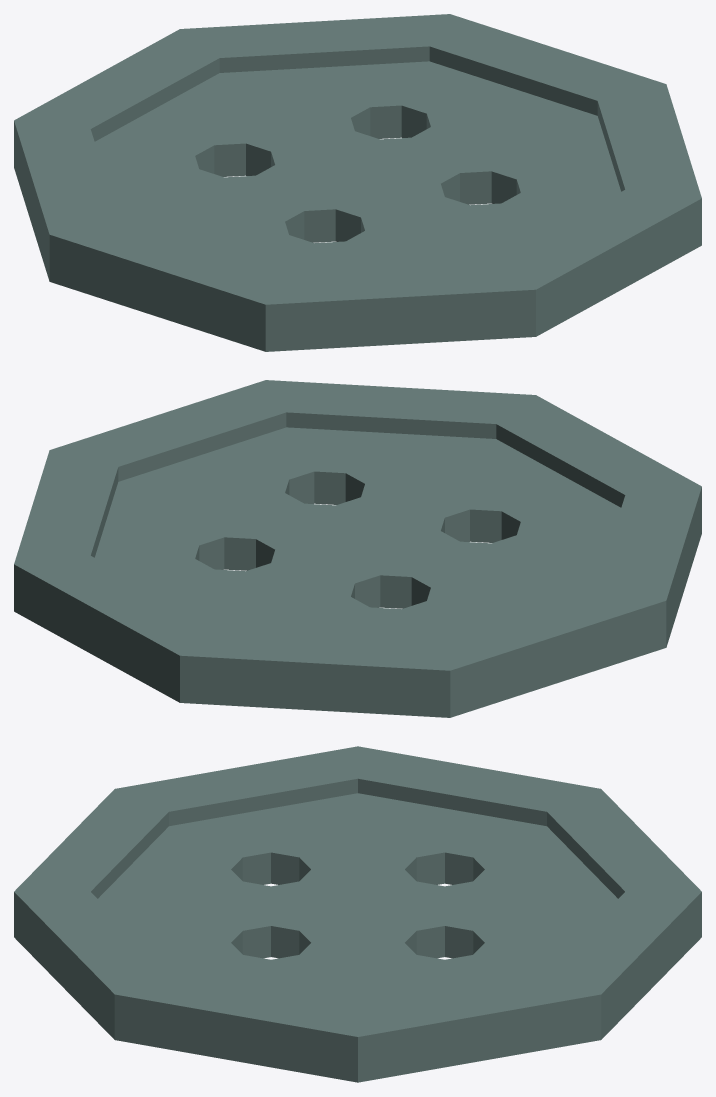
File: SM_Button_01.fbx
The picture shows the model from 3 angles, top to bottom: view 1: azimuth 30°, elevation 25°; view 2: azimuth 150°, elevation 25°; view 3: azimuth 270°, elevation 25°; orthographic projection. The views are drawn at different scales.
Parts seen in each view (by area): view 1: Button_01; view 2: Button_01; view 3: Button_01.
Part boxes in pixels (left/top/right/bottom): Button_01: left=14, top=14, right=701, bottom=351; Button_01: left=14, top=380, right=701, bottom=717; Button_01: left=14, top=746, right=701, bottom=1082.
Bounding box in the file's own units: 87.4 × 6.39 × 87.4.
